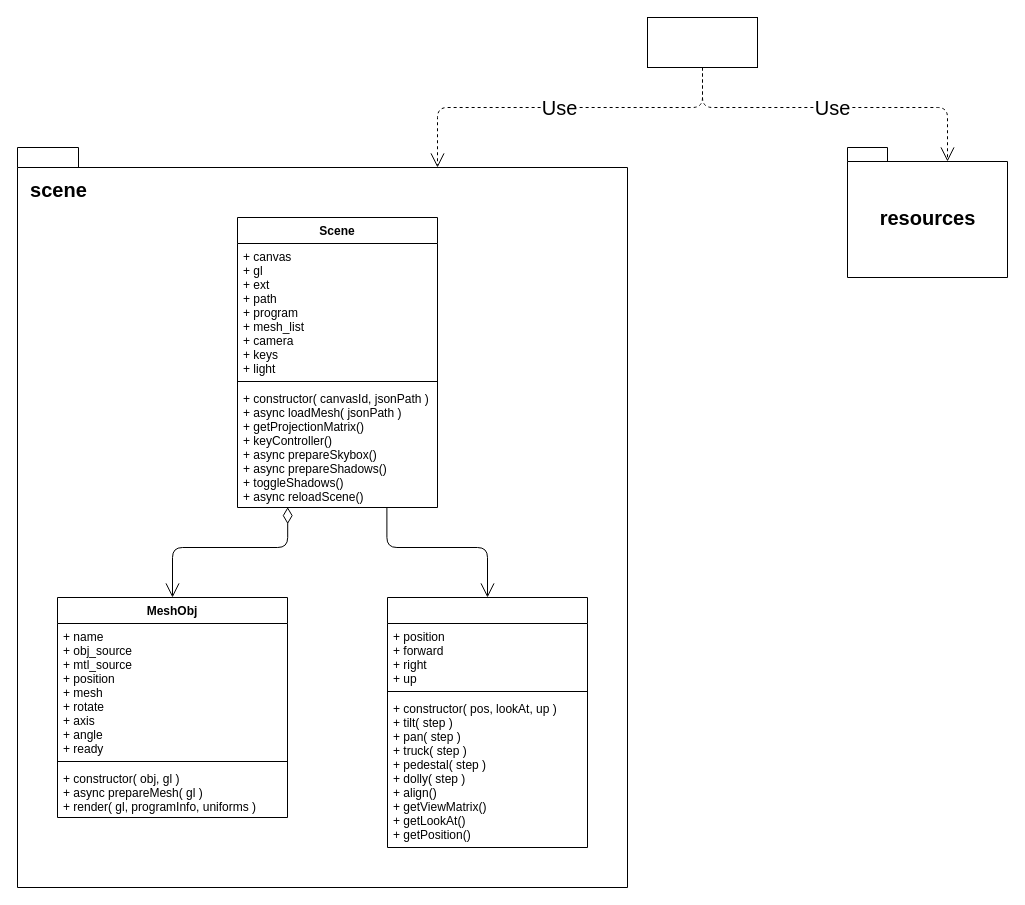
Image size: 1025x905. Some labels were removed from this diagram. Each missing label, with the box of its shape:
Camera: (386, 596, 588, 848)
main.js: (646, 16, 758, 68)
